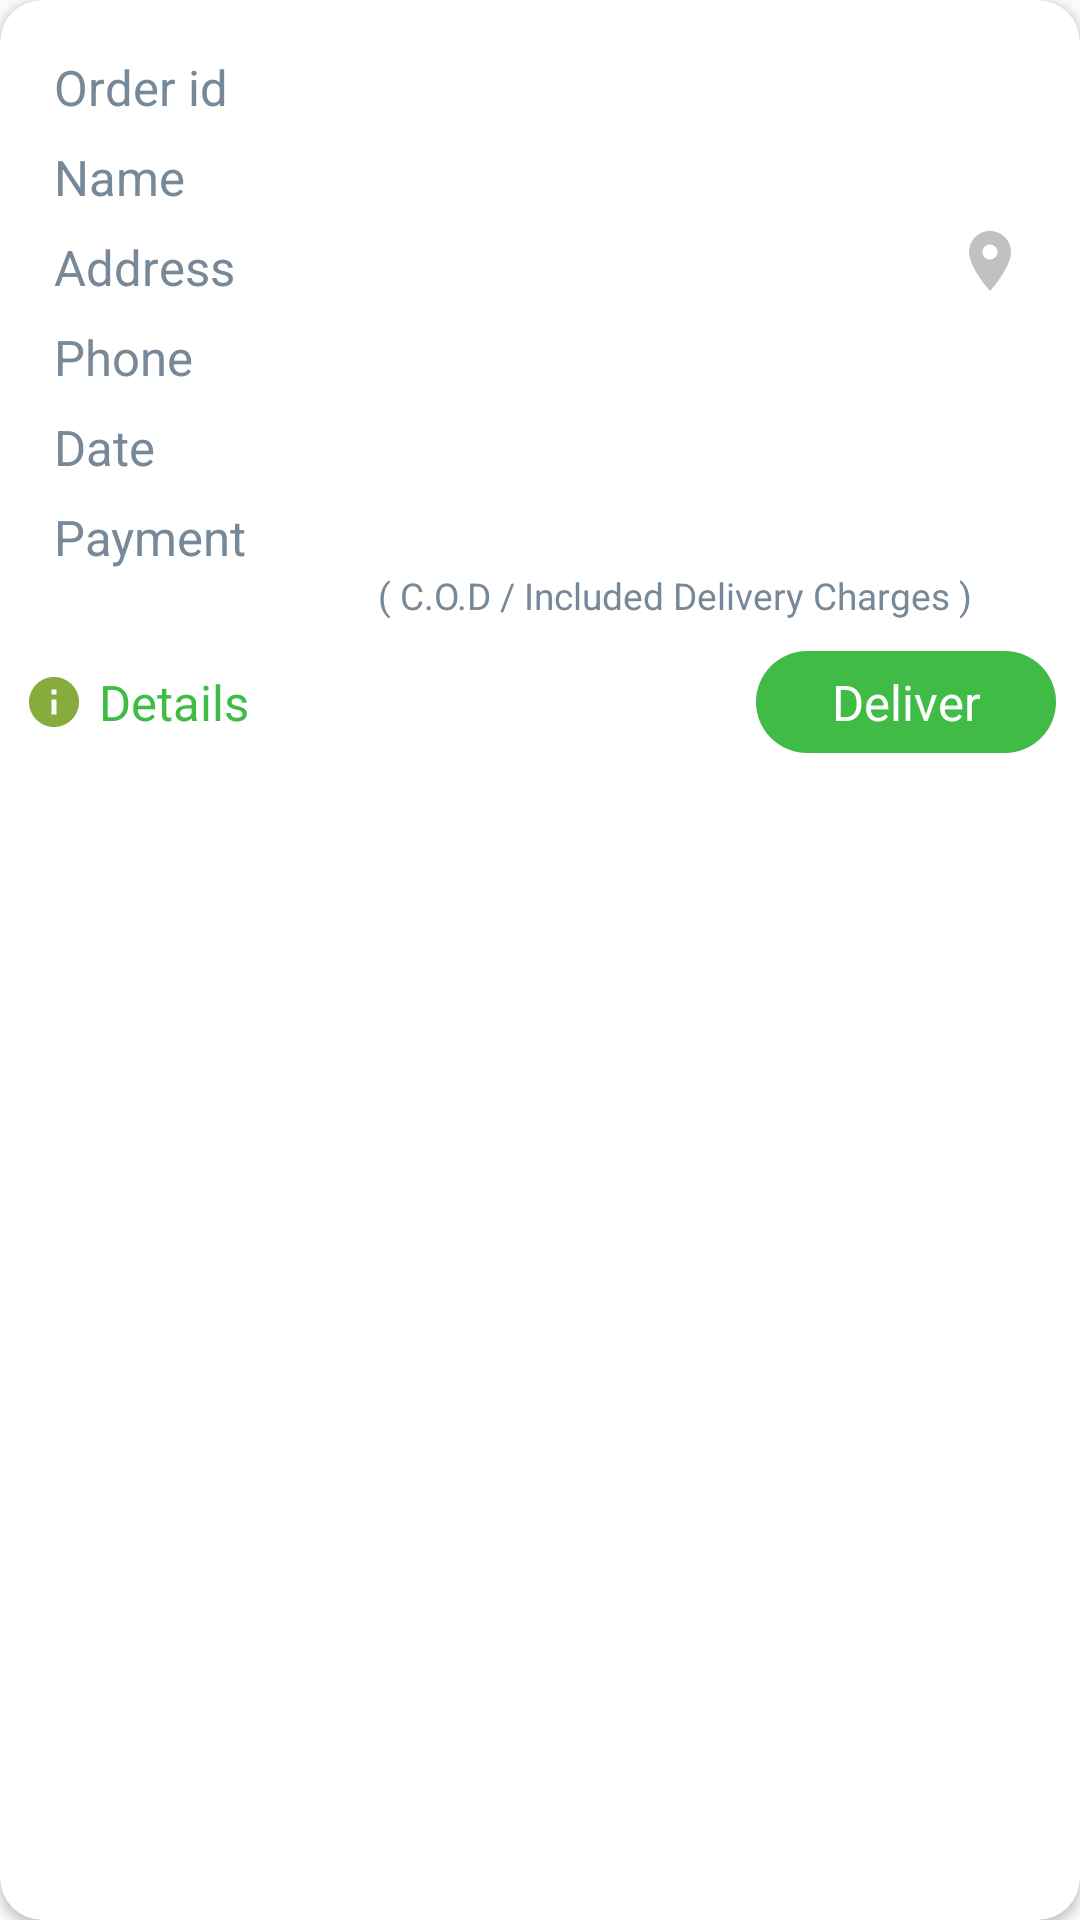

Icons on this 1080 x 1920 Android screen, each with its box as (x1, y1, x2, y2):
info: (29, 677, 79, 727)
map: (969, 231, 1011, 290)
